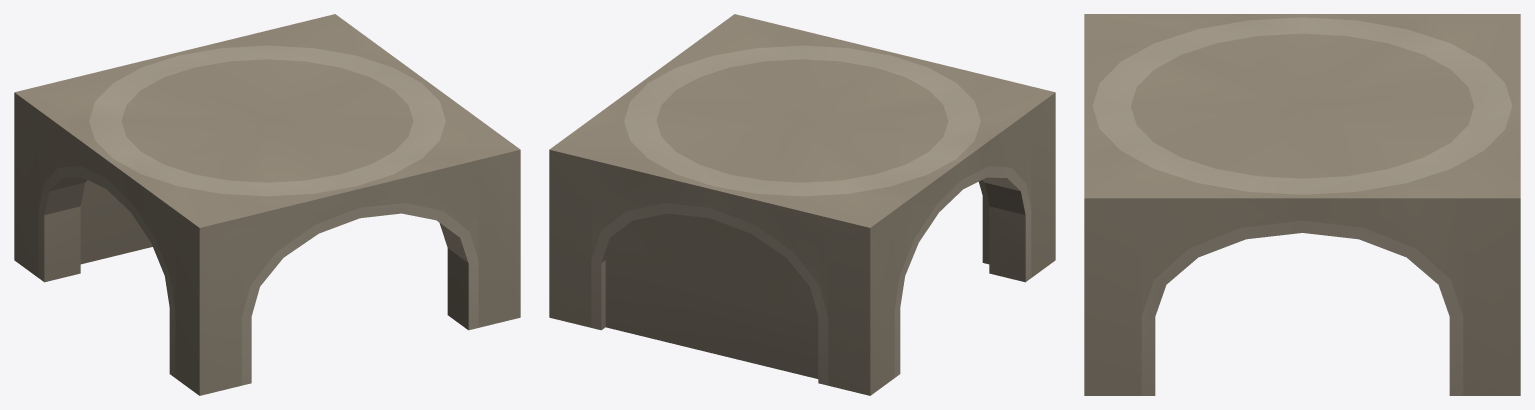
File: dome.arch_3way.stone.glb
3 views of the same model, side by side, from view 1: azimuth 30°, elevation 25°; view 2: azimuth 150°, elevation 25°; view 3: azimuth 270°, elevation 25° (orthographic). The views are drawn at different scales.
Visible parts, largest first — view 1: dome_arch_3way_stone; view 2: dome_arch_3way_stone; view 3: dome_arch_3way_stone.
Part boxes in pixels (x1,y1,x2,y2): dome_arch_3way_stone: (14,14,520,395); dome_arch_3way_stone: (549,14,1055,395); dome_arch_3way_stone: (1084,14,1520,395).
Size of what is drawn, in the model's own units: 8 by 4 by 8.
